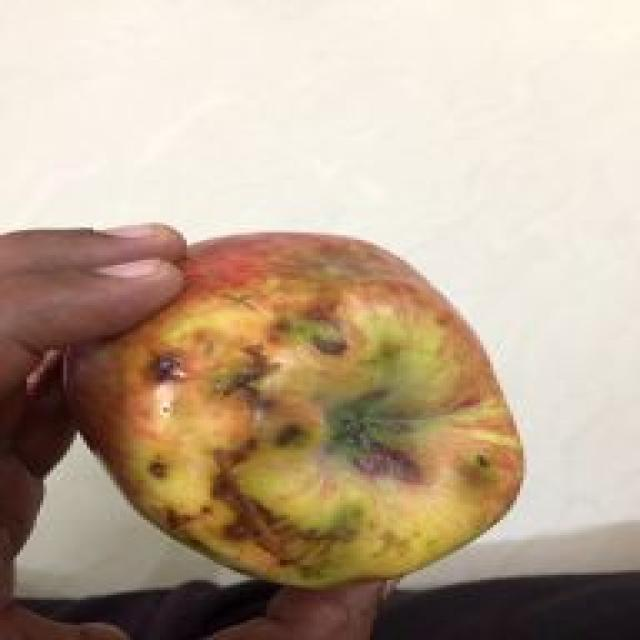Bad_Apple: (68, 235, 522, 588)
